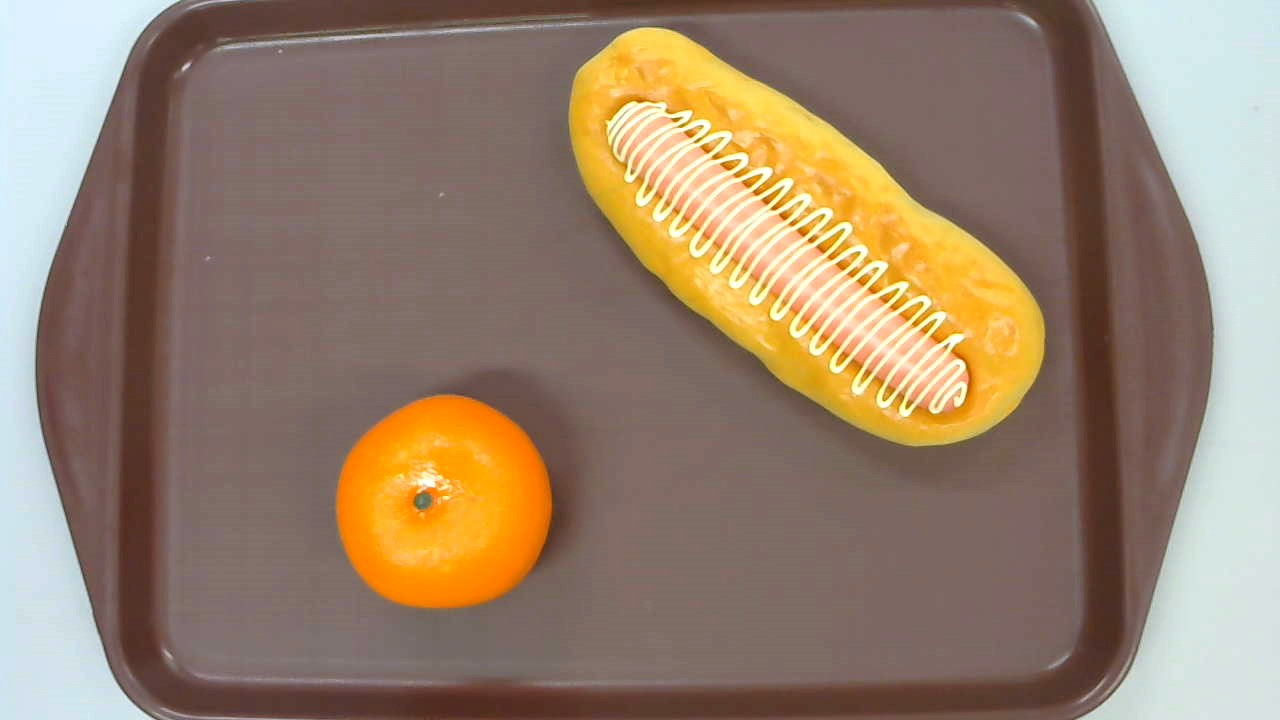hot dog: (569, 27, 1044, 446)
orange: (333, 394, 554, 611)
